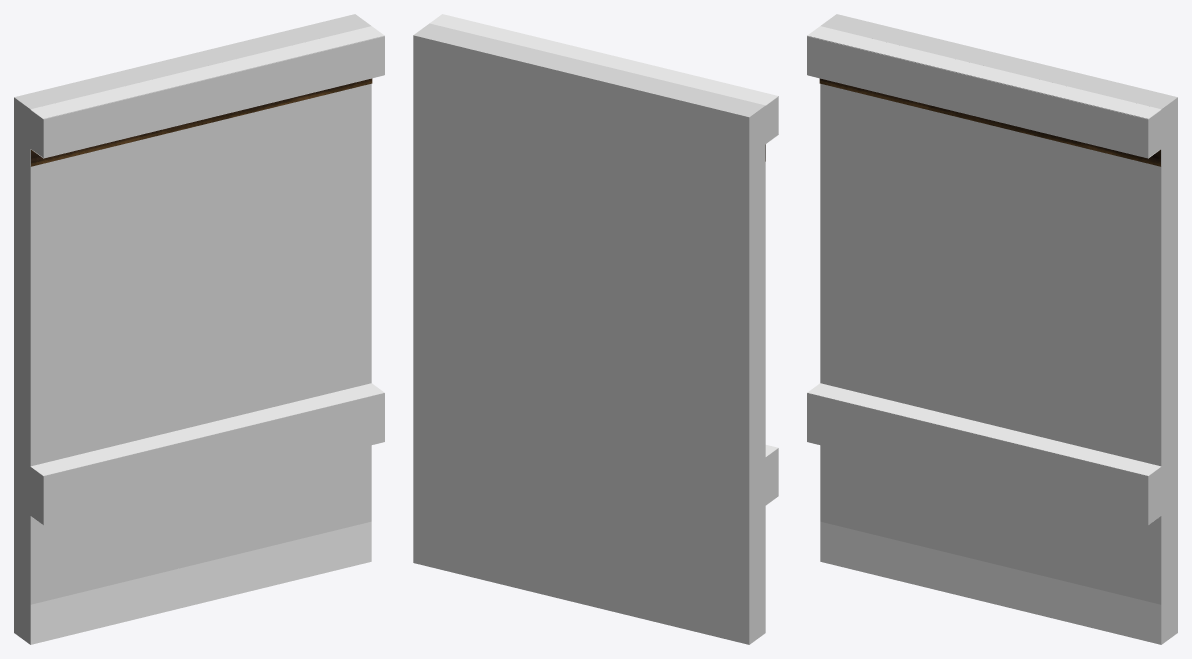
Rendered from Wall_A_Exterior_Window_01_x2.fbx.
3 views of the same model, side by side, from view 1: azimuth 30°, elevation 25°; view 2: azimuth 150°, elevation 25°; view 3: azimuth 330°, elevation 25° (orthographic).
Parts seen in each view (by area): view 1: C_Wall_A_Exterior_Window_01_x2, Wall_A_Exterior_Window_01_x2; view 2: C_Wall_A_Exterior_Window_01_x2, Wall_A_Exterior_Window_01_x2; view 3: C_Wall_A_Exterior_Window_01_x2, Wall_A_Exterior_Window_01_x2.
Boxes of the visible parts, x1=… form: C_Wall_A_Exterior_Window_01_x2: x1=14, y1=14, x2=384, y2=644; Wall_A_Exterior_Window_01_x2: x1=30, y1=26, x2=384, y2=644; C_Wall_A_Exterior_Window_01_x2: x1=413, y1=23, x2=778, y2=644; Wall_A_Exterior_Window_01_x2: x1=430, y1=14, x2=778, y2=456; C_Wall_A_Exterior_Window_01_x2: x1=807, y1=14, x2=1177, y2=644; Wall_A_Exterior_Window_01_x2: x1=807, y1=26, x2=1161, y2=644.
Bounding box in the file's own units: 2 × 3 × 0.3017.
